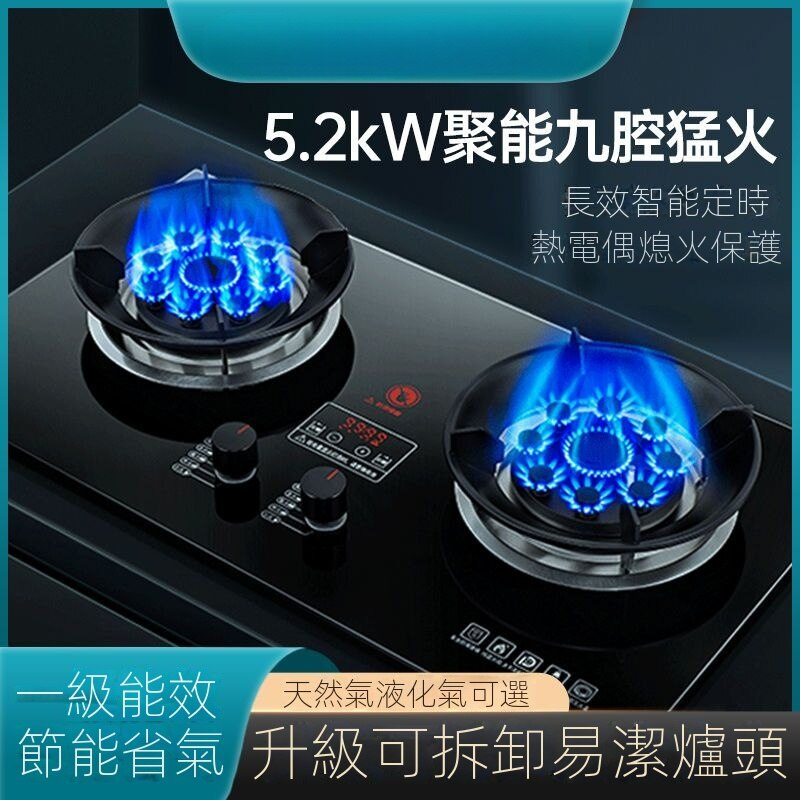gasoven: (1, 148, 780, 709)
